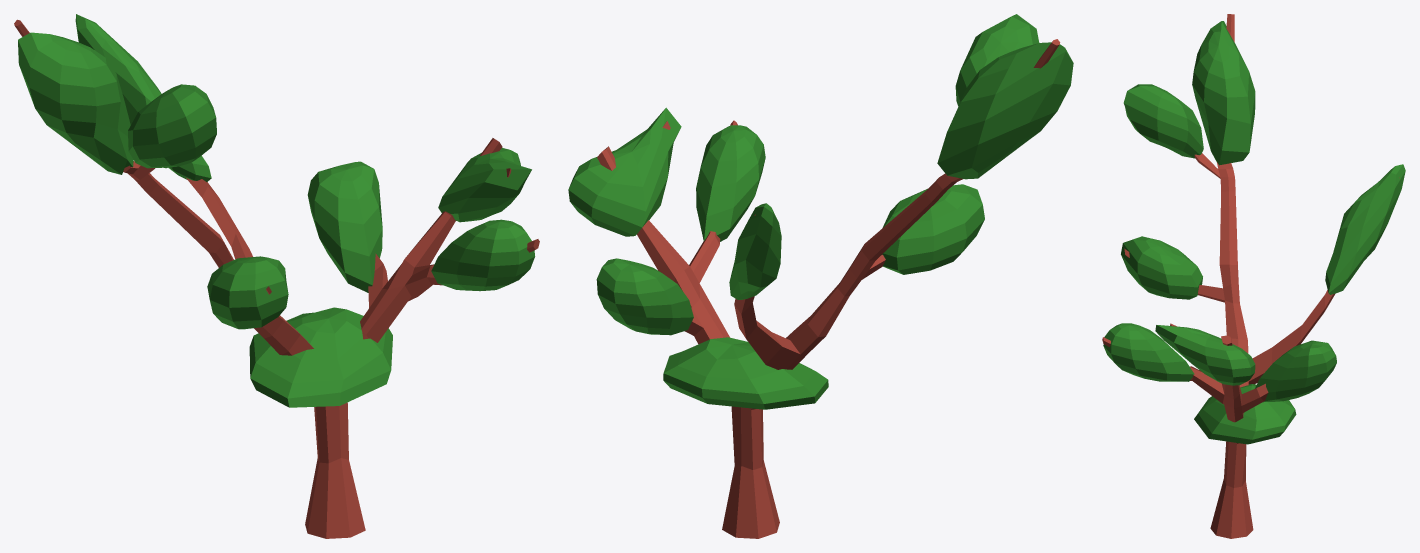
Rendered from pohon.fbx.
3 renders of one model, left to right at view 1: azimuth 30°, elevation 25°; view 2: azimuth 150°, elevation 25°; view 3: azimuth 270°, elevation 25°, orthographic. The views are drawn at different scales.
Visible parts, largest first — view 1: Sphere.009; view 2: Sphere.009; view 3: Sphere.009.
Boxes of the visible parts, x1,y1,x2,y2 form: Sphere.009: (14, 14, 539, 538); Sphere.009: (568, 14, 1073, 538); Sphere.009: (1102, 14, 1405, 538).
Bounding box in the file's own units: 1274 × 1401 × 943.
